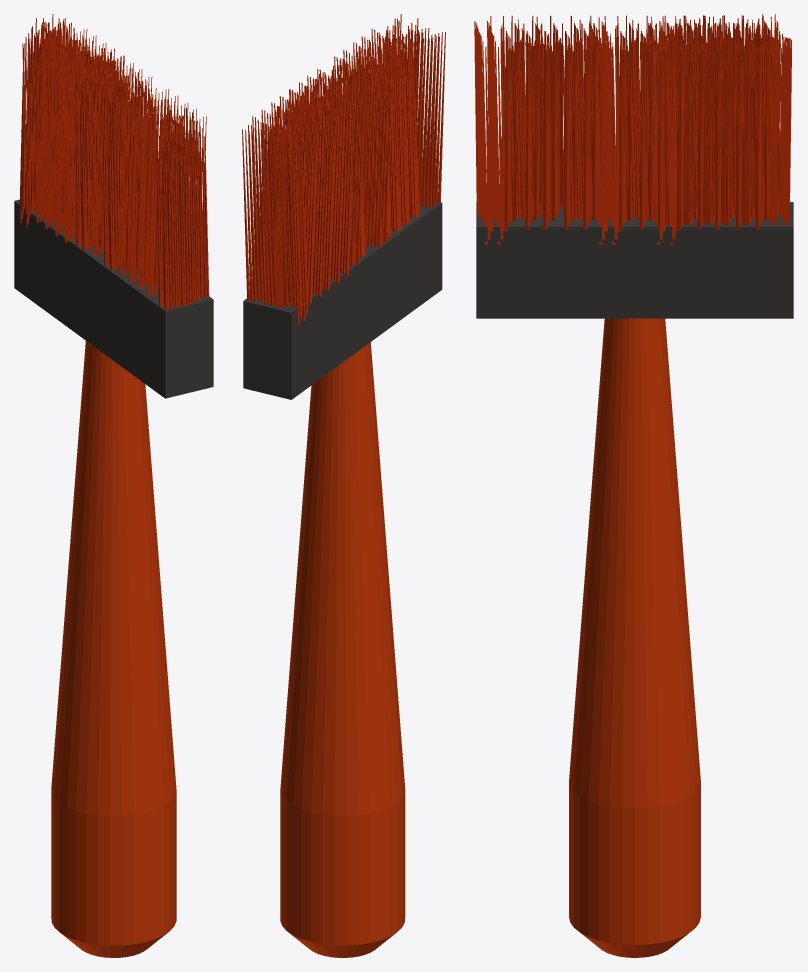
Rendered from Kwastoranje.obj.
The picture shows the model from 3 angles, left to right: view 1: azimuth 30°, elevation 25°; view 2: azimuth 150°, elevation 25°; view 3: azimuth 270°, elevation 25°; orthographic projection. The views are drawn at different scales.
Visible parts, largest first — view 1: Cylinder, Cube.001_Cube, Cube_Cube.001; view 2: Cylinder, Cube.001_Cube, Cube_Cube.001; view 3: Cylinder, Cube.001_Cube, Cube_Cube.001.
Part boxes in pixels (x1,y1,x2,y2): Cylinder: (51,341,176,957); Cube.001_Cube: (19,14,209,310); Cube_Cube.001: (14,199,213,398); Cylinder: (280,342,405,957); Cube.001_Cube: (242,14,445,325); Cube_Cube.001: (243,202,442,399); Cylinder: (569,318,700,957); Cube.001_Cube: (474,14,791,244); Cube_Cube.001: (476,202,793,318).
Bounding box in the file's own units: 2 × 15.44 × 4.84.
